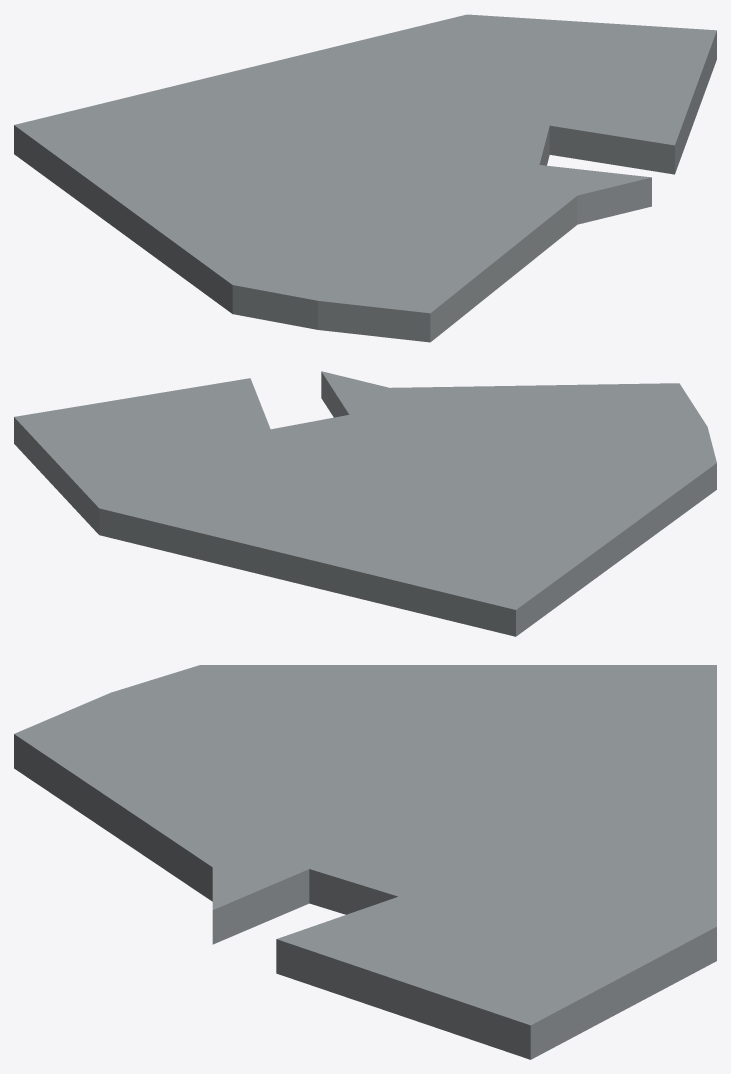
Rendered from ceiling.obj.
3 views of the same model, one above another, from view 1: azimuth 30°, elevation 25°; view 2: azimuth 150°, elevation 25°; view 3: azimuth 270°, elevation 25° (orthographic). The views are drawn at different scales.
Visible parts, largest first — view 1: pCube1; view 2: pCube1; view 3: pCube1.
Boxes of the visible parts, x1,y1,x2,y2 form: pCube1: (14, 14, 716, 342); pCube1: (14, 371, 716, 636); pCube1: (14, 665, 716, 1059).
Bounding box in the file's own units: 6.56 × 0.2925 × 5.41.
1 material, 1 textured.
